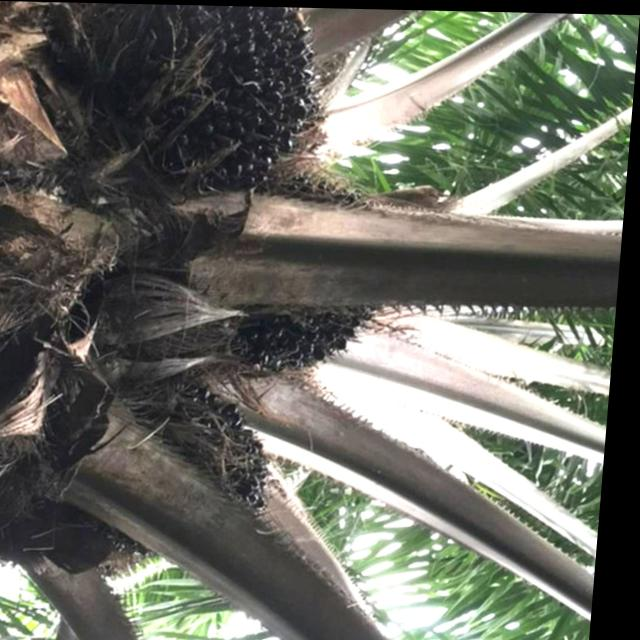unripe: (79, 2, 337, 194), (202, 167, 425, 386), (122, 370, 296, 533)
